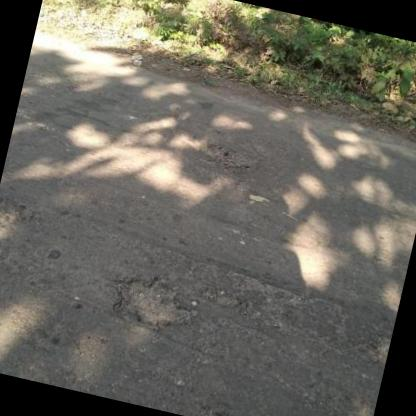pothole: (106, 266, 200, 338), (199, 138, 262, 178)
